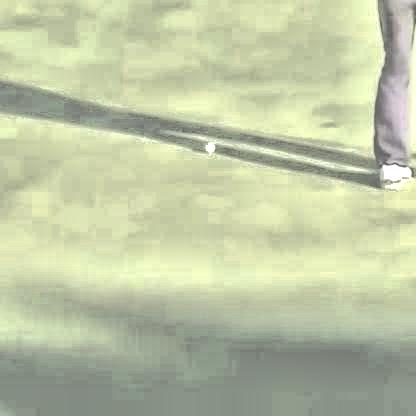golfball: (199, 138, 215, 151)
